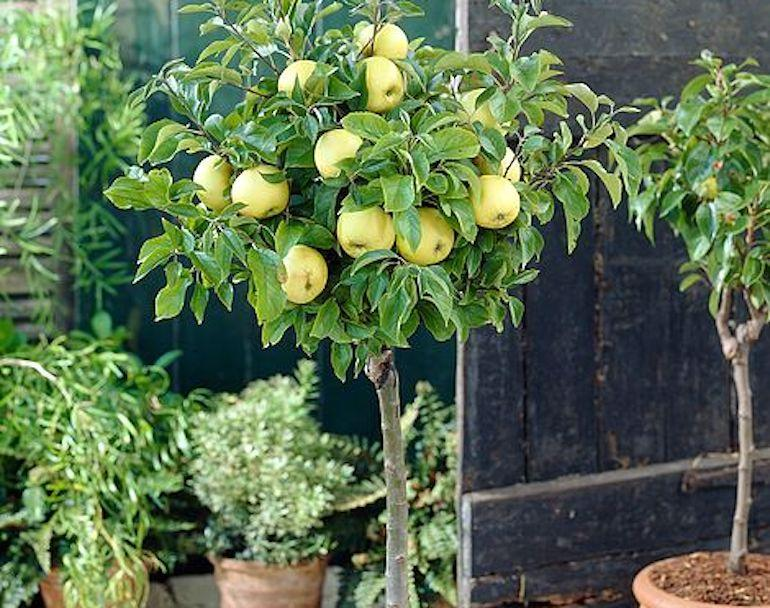apple: (336, 202, 396, 256), (397, 208, 453, 264), (233, 166, 289, 220), (358, 57, 407, 113), (280, 246, 328, 303), (469, 177, 520, 229), (315, 126, 363, 175), (193, 154, 234, 211), (277, 59, 323, 96), (357, 23, 405, 56)
